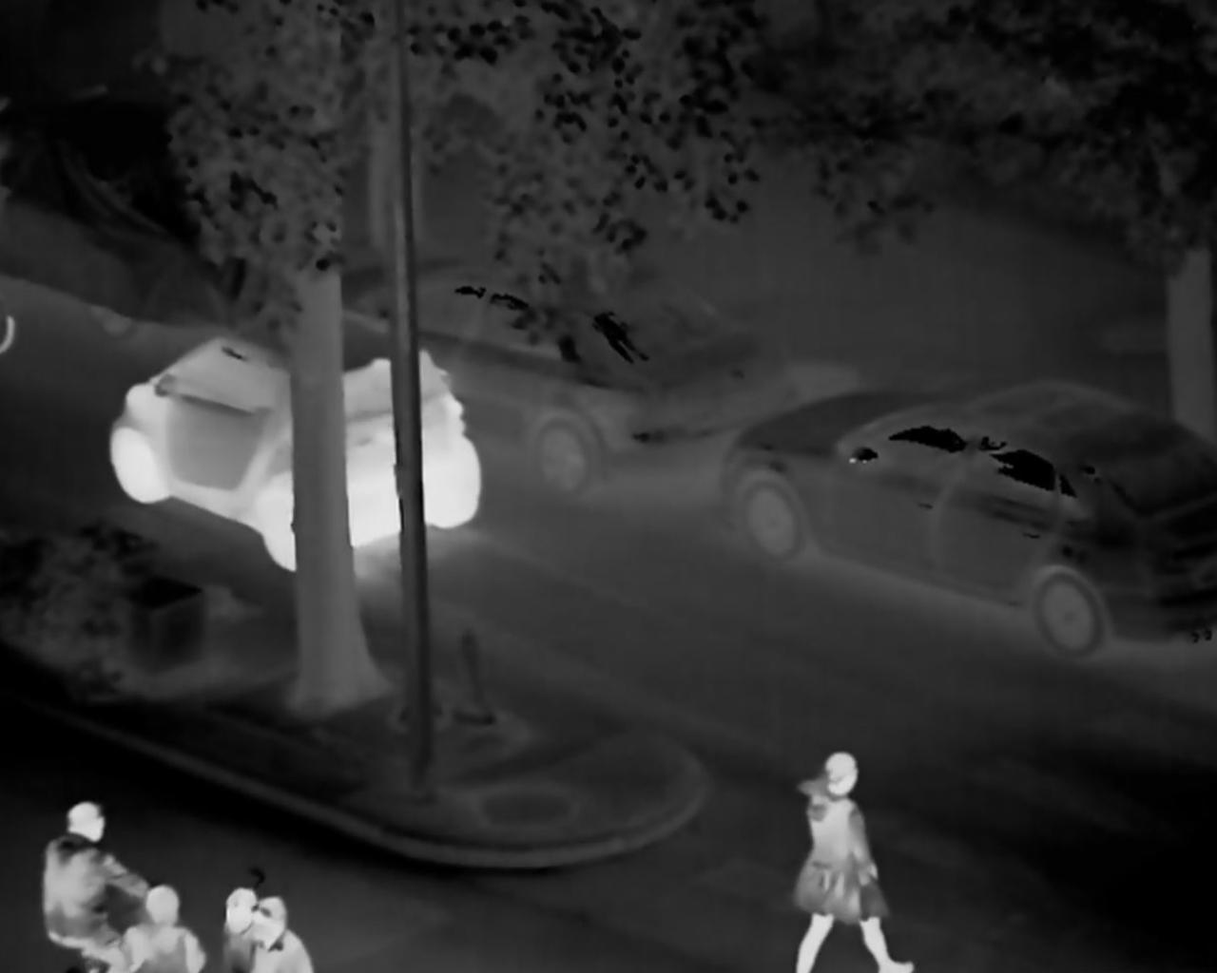person: (783, 740, 919, 973), (44, 786, 124, 973), (124, 858, 203, 973), (251, 896, 314, 973), (218, 882, 266, 973)
